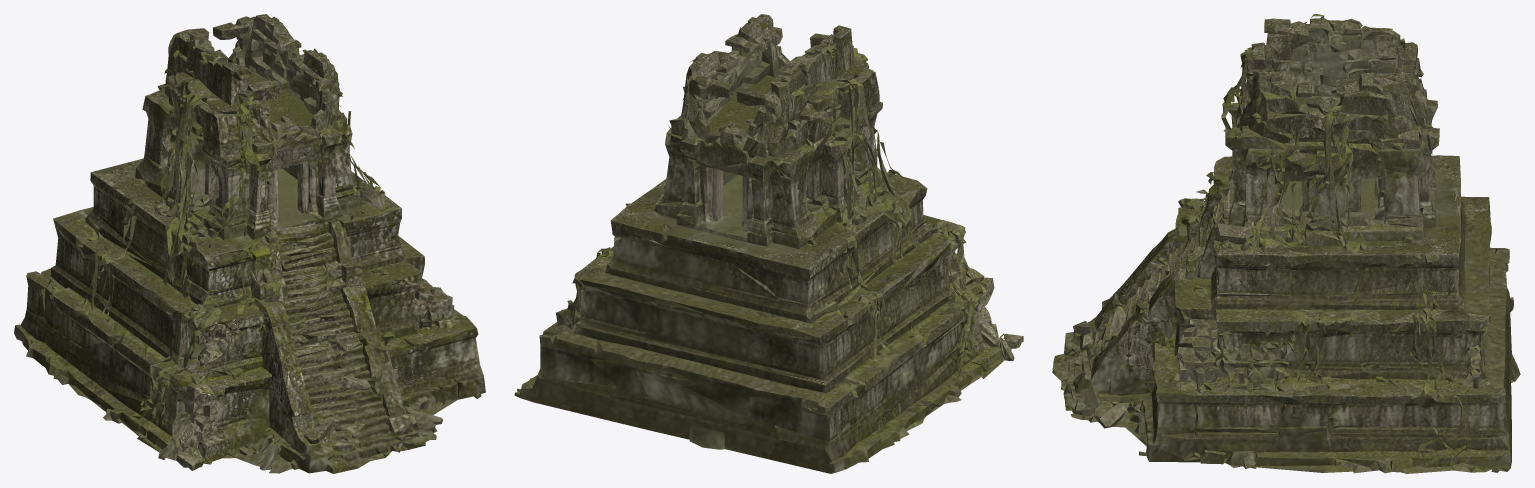
File: temple.glb
The picture shows the model from 3 angles, left to right: view 1: azimuth 30°, elevation 25°; view 2: azimuth 150°, elevation 25°; view 3: azimuth 270°, elevation 25°; orthographic projection. The views are drawn at different scales.
Visible parts, largest first — view 1: Mesh_0; view 2: Mesh_0; view 3: Mesh_0.
Boxes of the visible parts, bbox=[...] form: Mesh_0: bbox=[14, 14, 485, 473]; Mesh_0: bbox=[514, 14, 1023, 473]; Mesh_0: bbox=[1052, 14, 1520, 473].
Bounding box in the file's own units: 1.66 × 1.54 × 1.9.
Materials: 1 (1 with a texture image).
